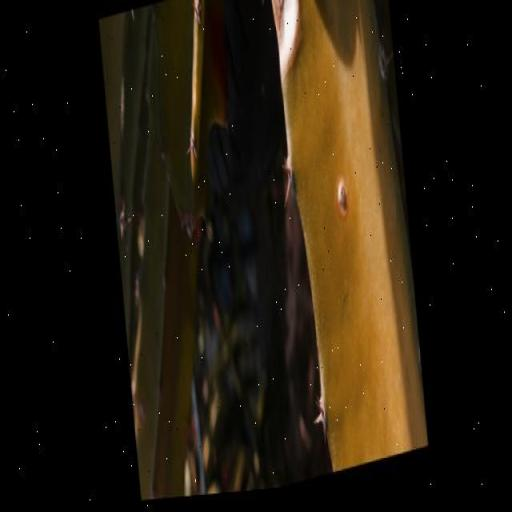stemcanker: (330, 177, 356, 223)
